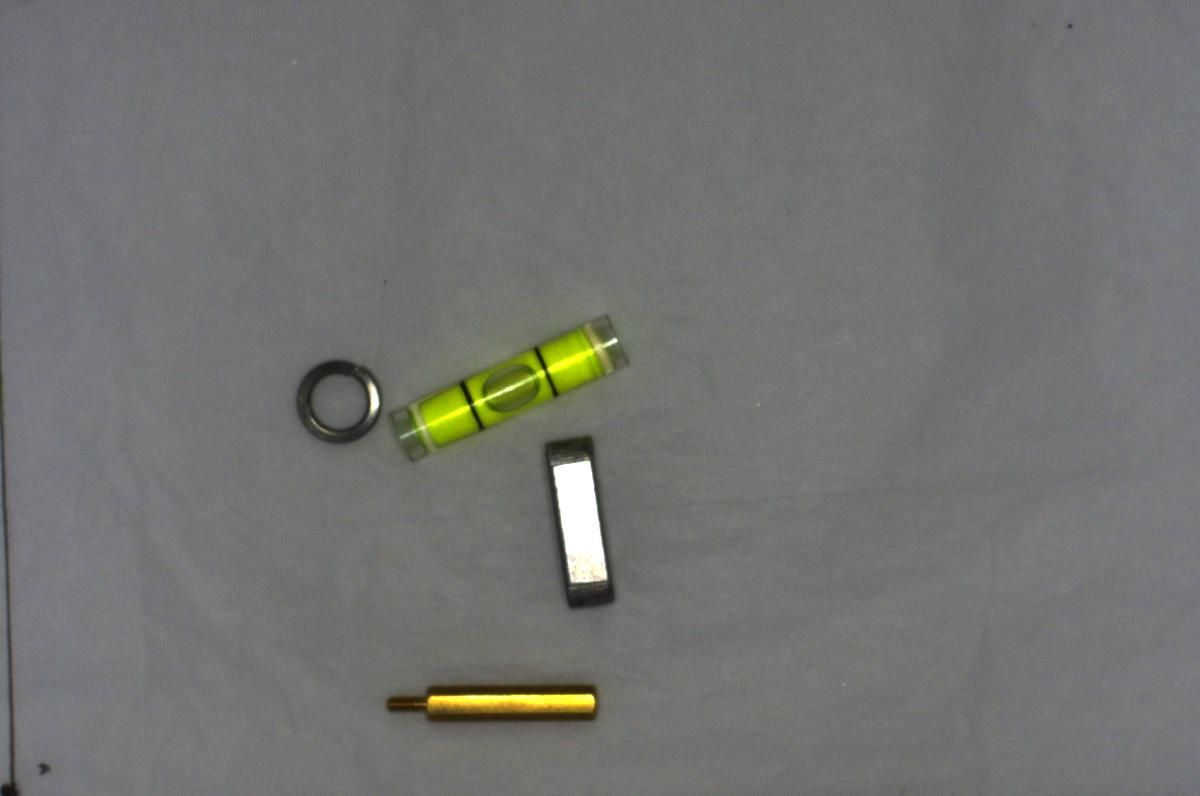Hexagon pillar: (361, 674, 601, 734)
Horizontal bubble: (378, 300, 645, 465)
Keybar: (532, 430, 628, 616)
Spring washer: (291, 349, 390, 453)
